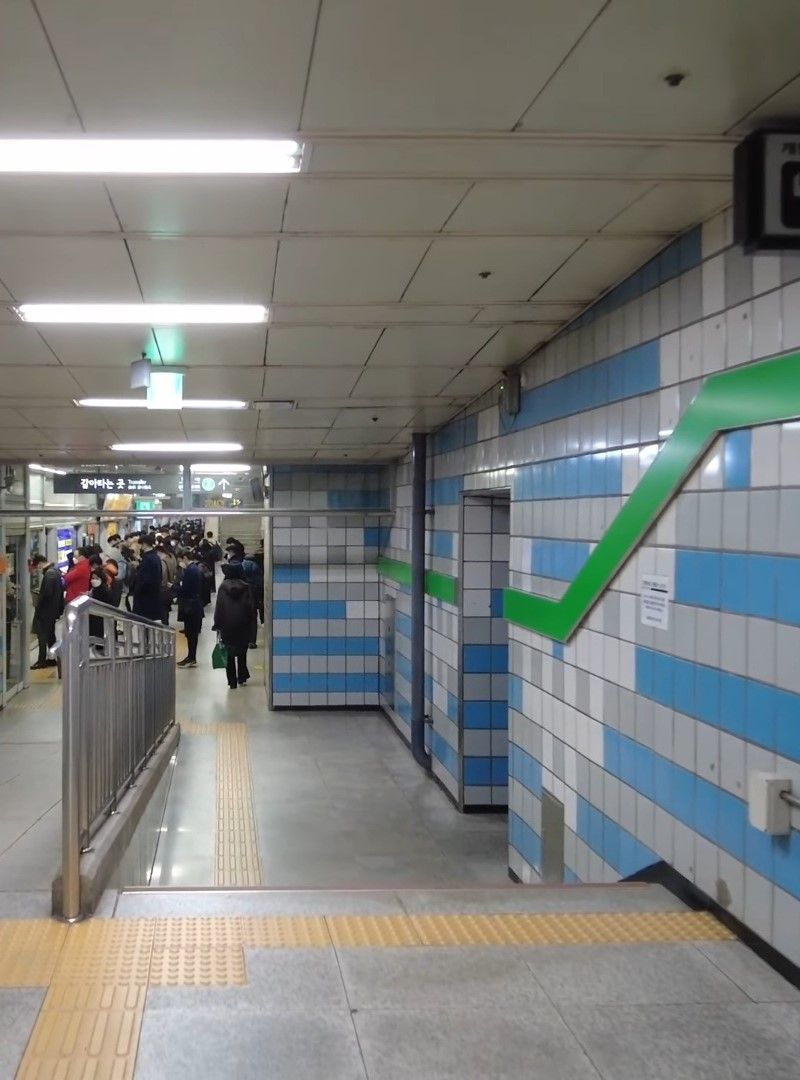warningBlock: (158, 949, 260, 988), (4, 915, 63, 981), (70, 910, 154, 956), (652, 897, 731, 945), (340, 915, 425, 954), (584, 904, 655, 950), (244, 921, 337, 952), (62, 956, 149, 986), (425, 908, 499, 942), (503, 913, 581, 945), (158, 920, 241, 942)
